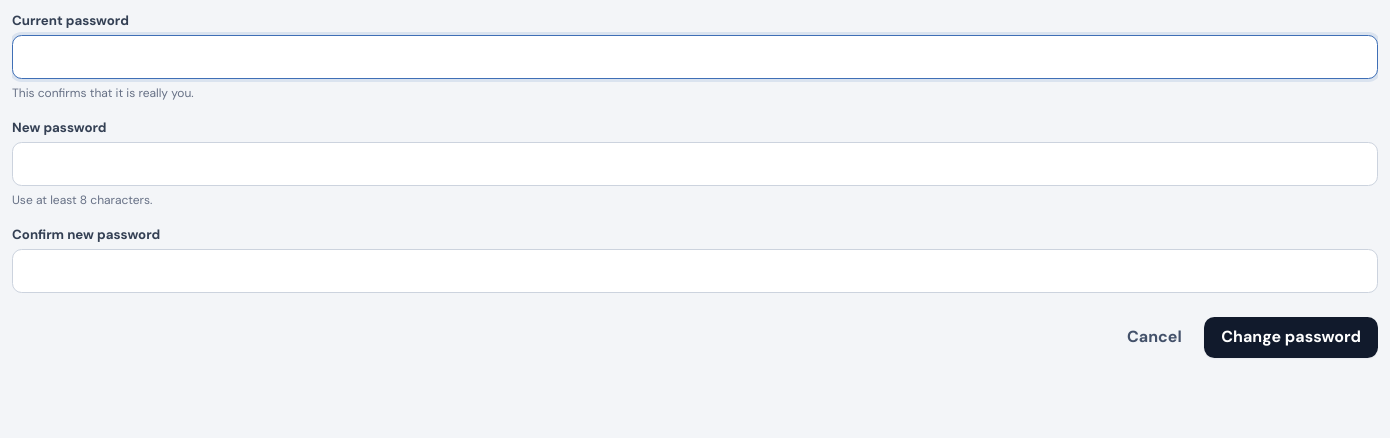
AccountSettingsForm › blocks mismatched passwords
Type "old-password" into the password field labelled "Current password This confirms that it is really you." at (695, 57), box [12,35,1378,79]
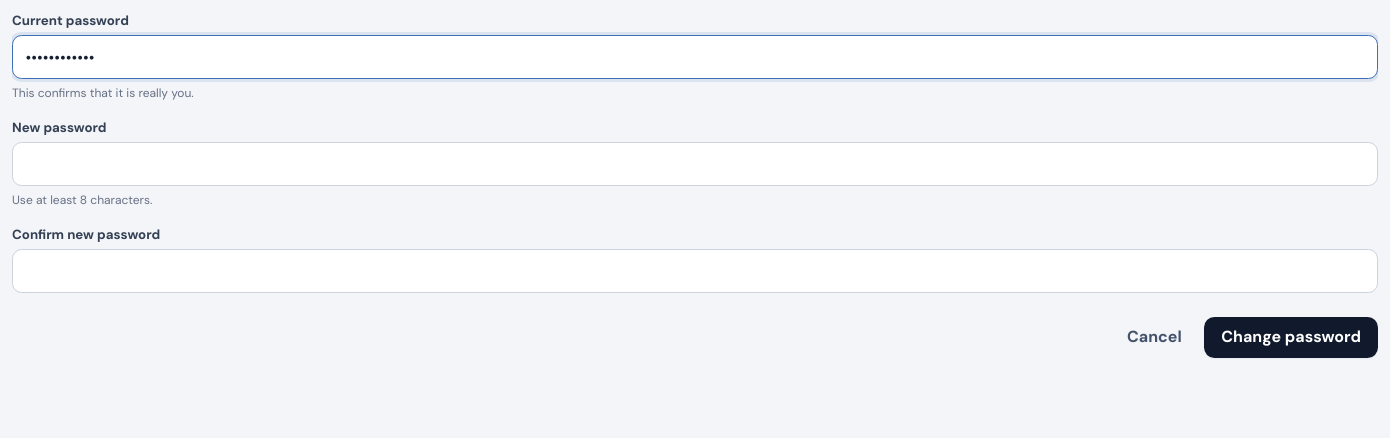
Type "new-password" into the password field labelled "New password Use at least 8 characters." at (695, 164), box [12,142,1378,186]
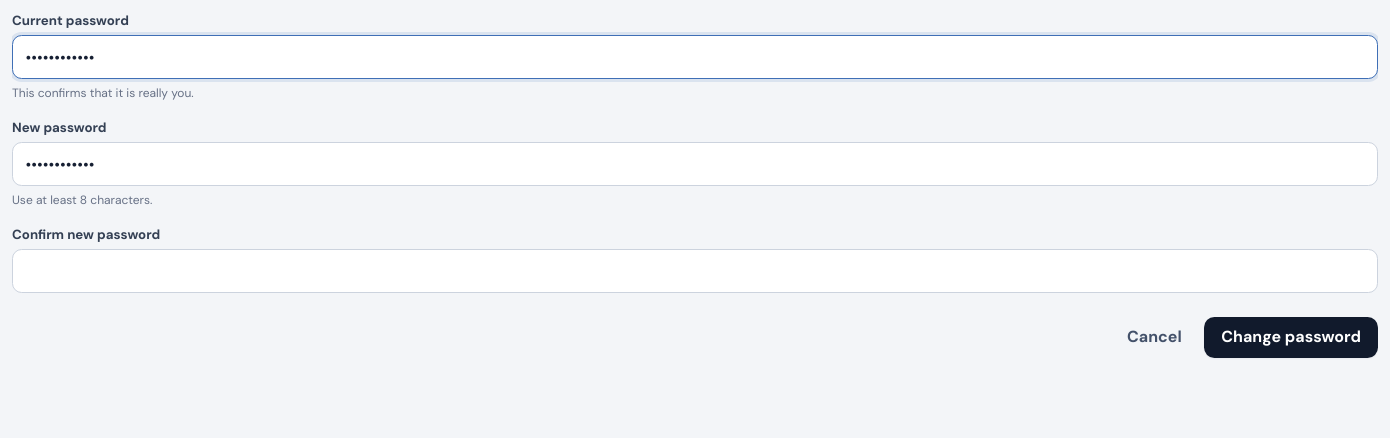
Type "different-password" into the password field labelled "Confirm new password" at (695, 271), box [12,249,1378,293]
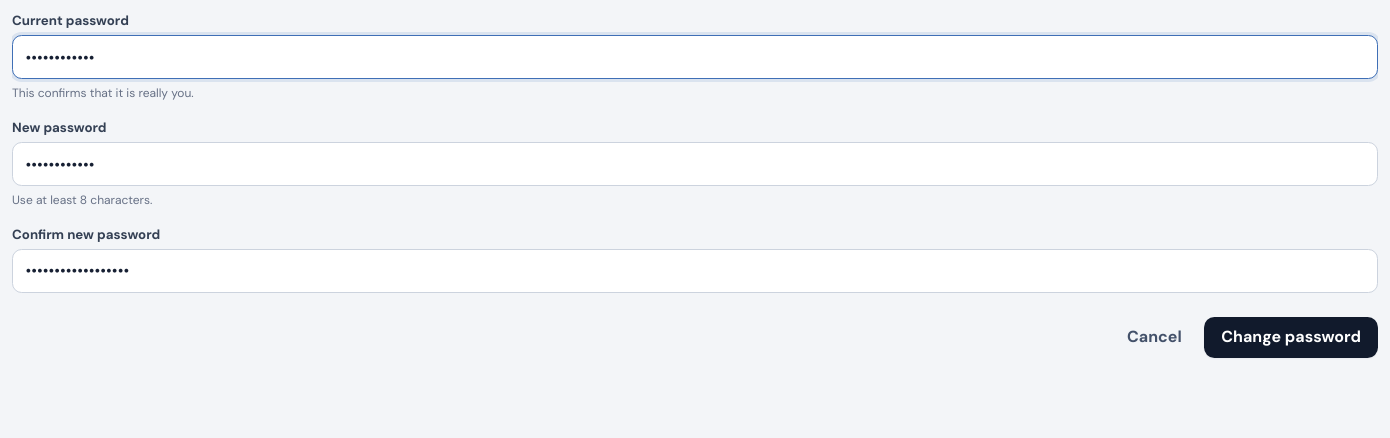
Click the button "Change password" at (1291, 337), box [1204,317,1378,358]
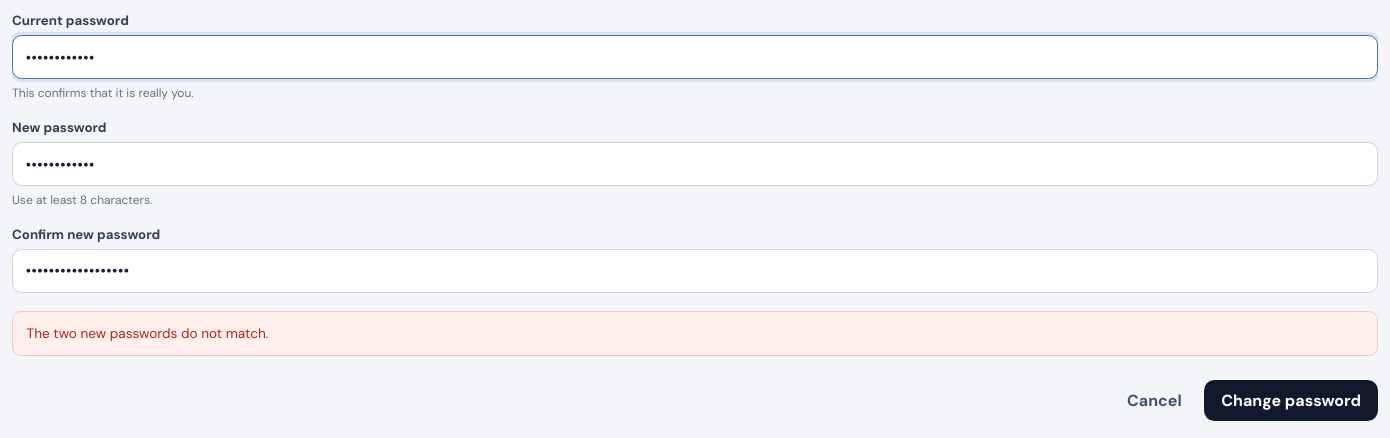
Now the message shows "do not match", box [27,324,268,342]
